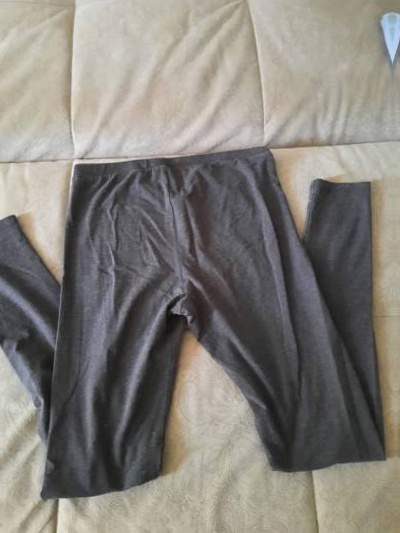Pants: (0, 120, 397, 500), (394, 116, 400, 496)
